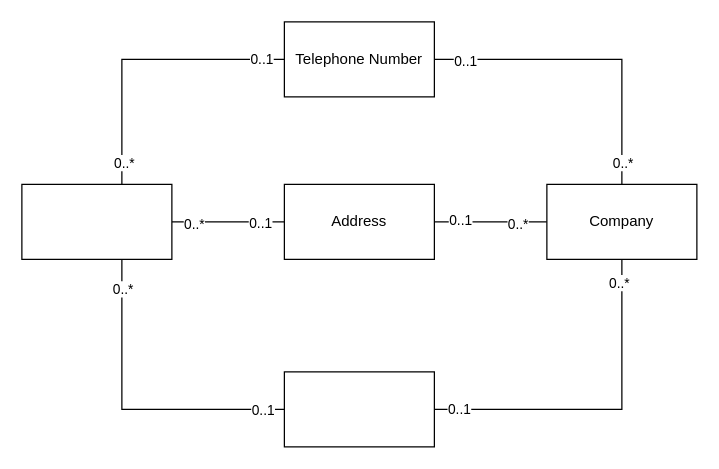
The diagram is 719 pixels wide and 469 high, and some of its shapes have lost their labels. The shapes that lost their labels are listed below. From the top down, each one's centre as x and y in pixels, then its label:
point 96,221: Person
point 358,409: E-mail Address
